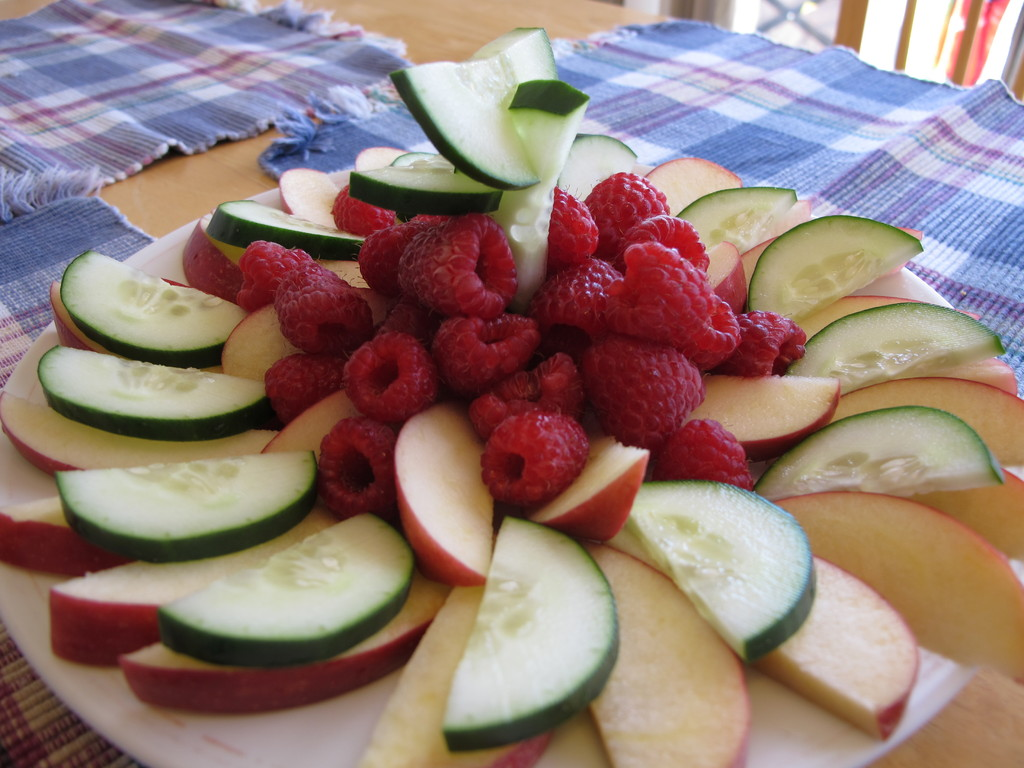Apple: (0, 144, 1023, 767), (801, 513, 1021, 691)
